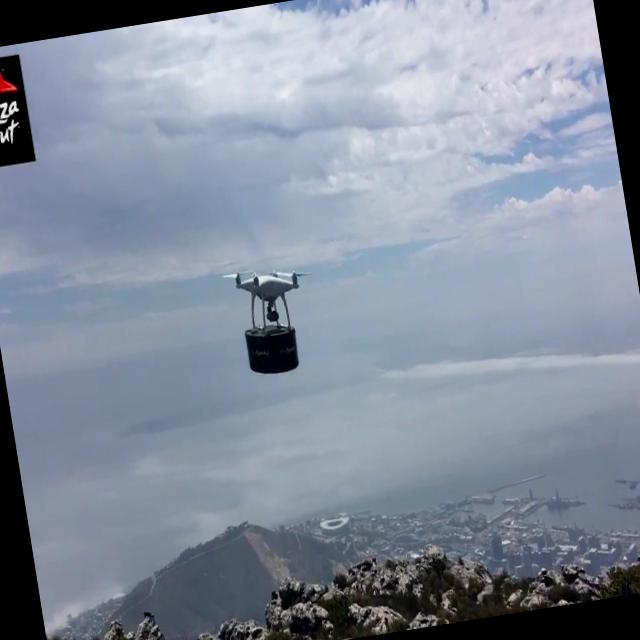drone: (220, 256, 326, 382)
